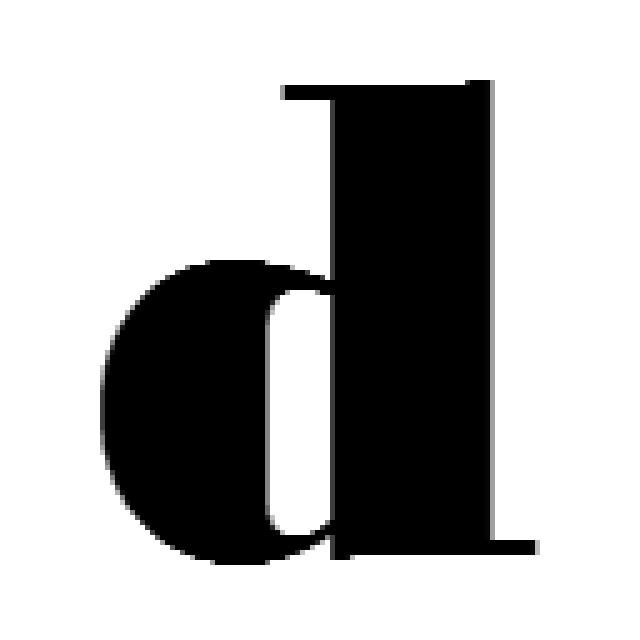D: (102, 78, 543, 556)
